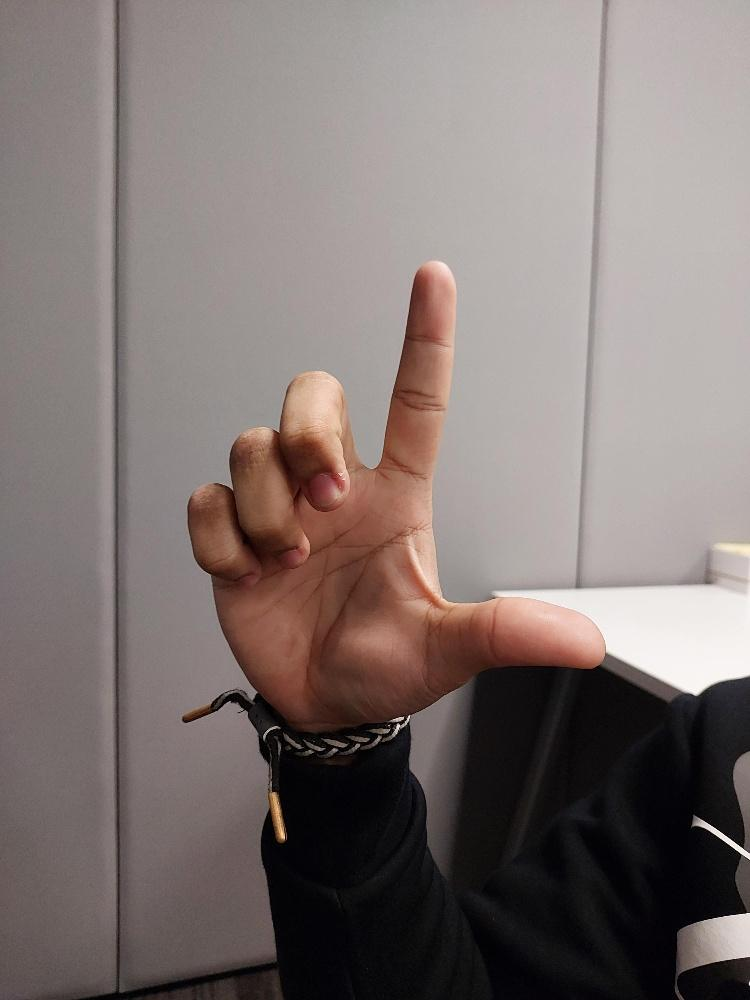l: (184, 257, 607, 738)
